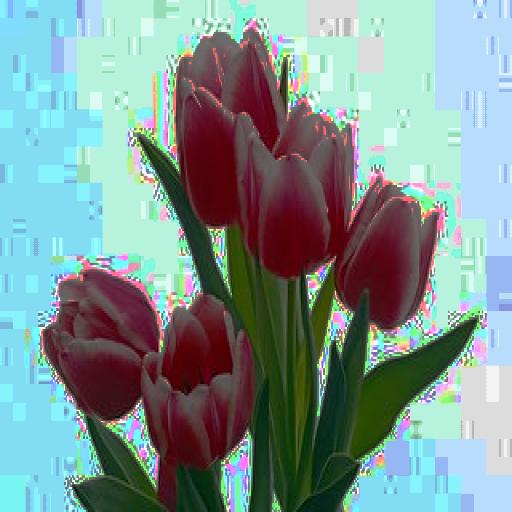tulip: (176, 28, 285, 228), (235, 103, 349, 279), (144, 292, 253, 471), (42, 265, 156, 423), (336, 183, 438, 324)
